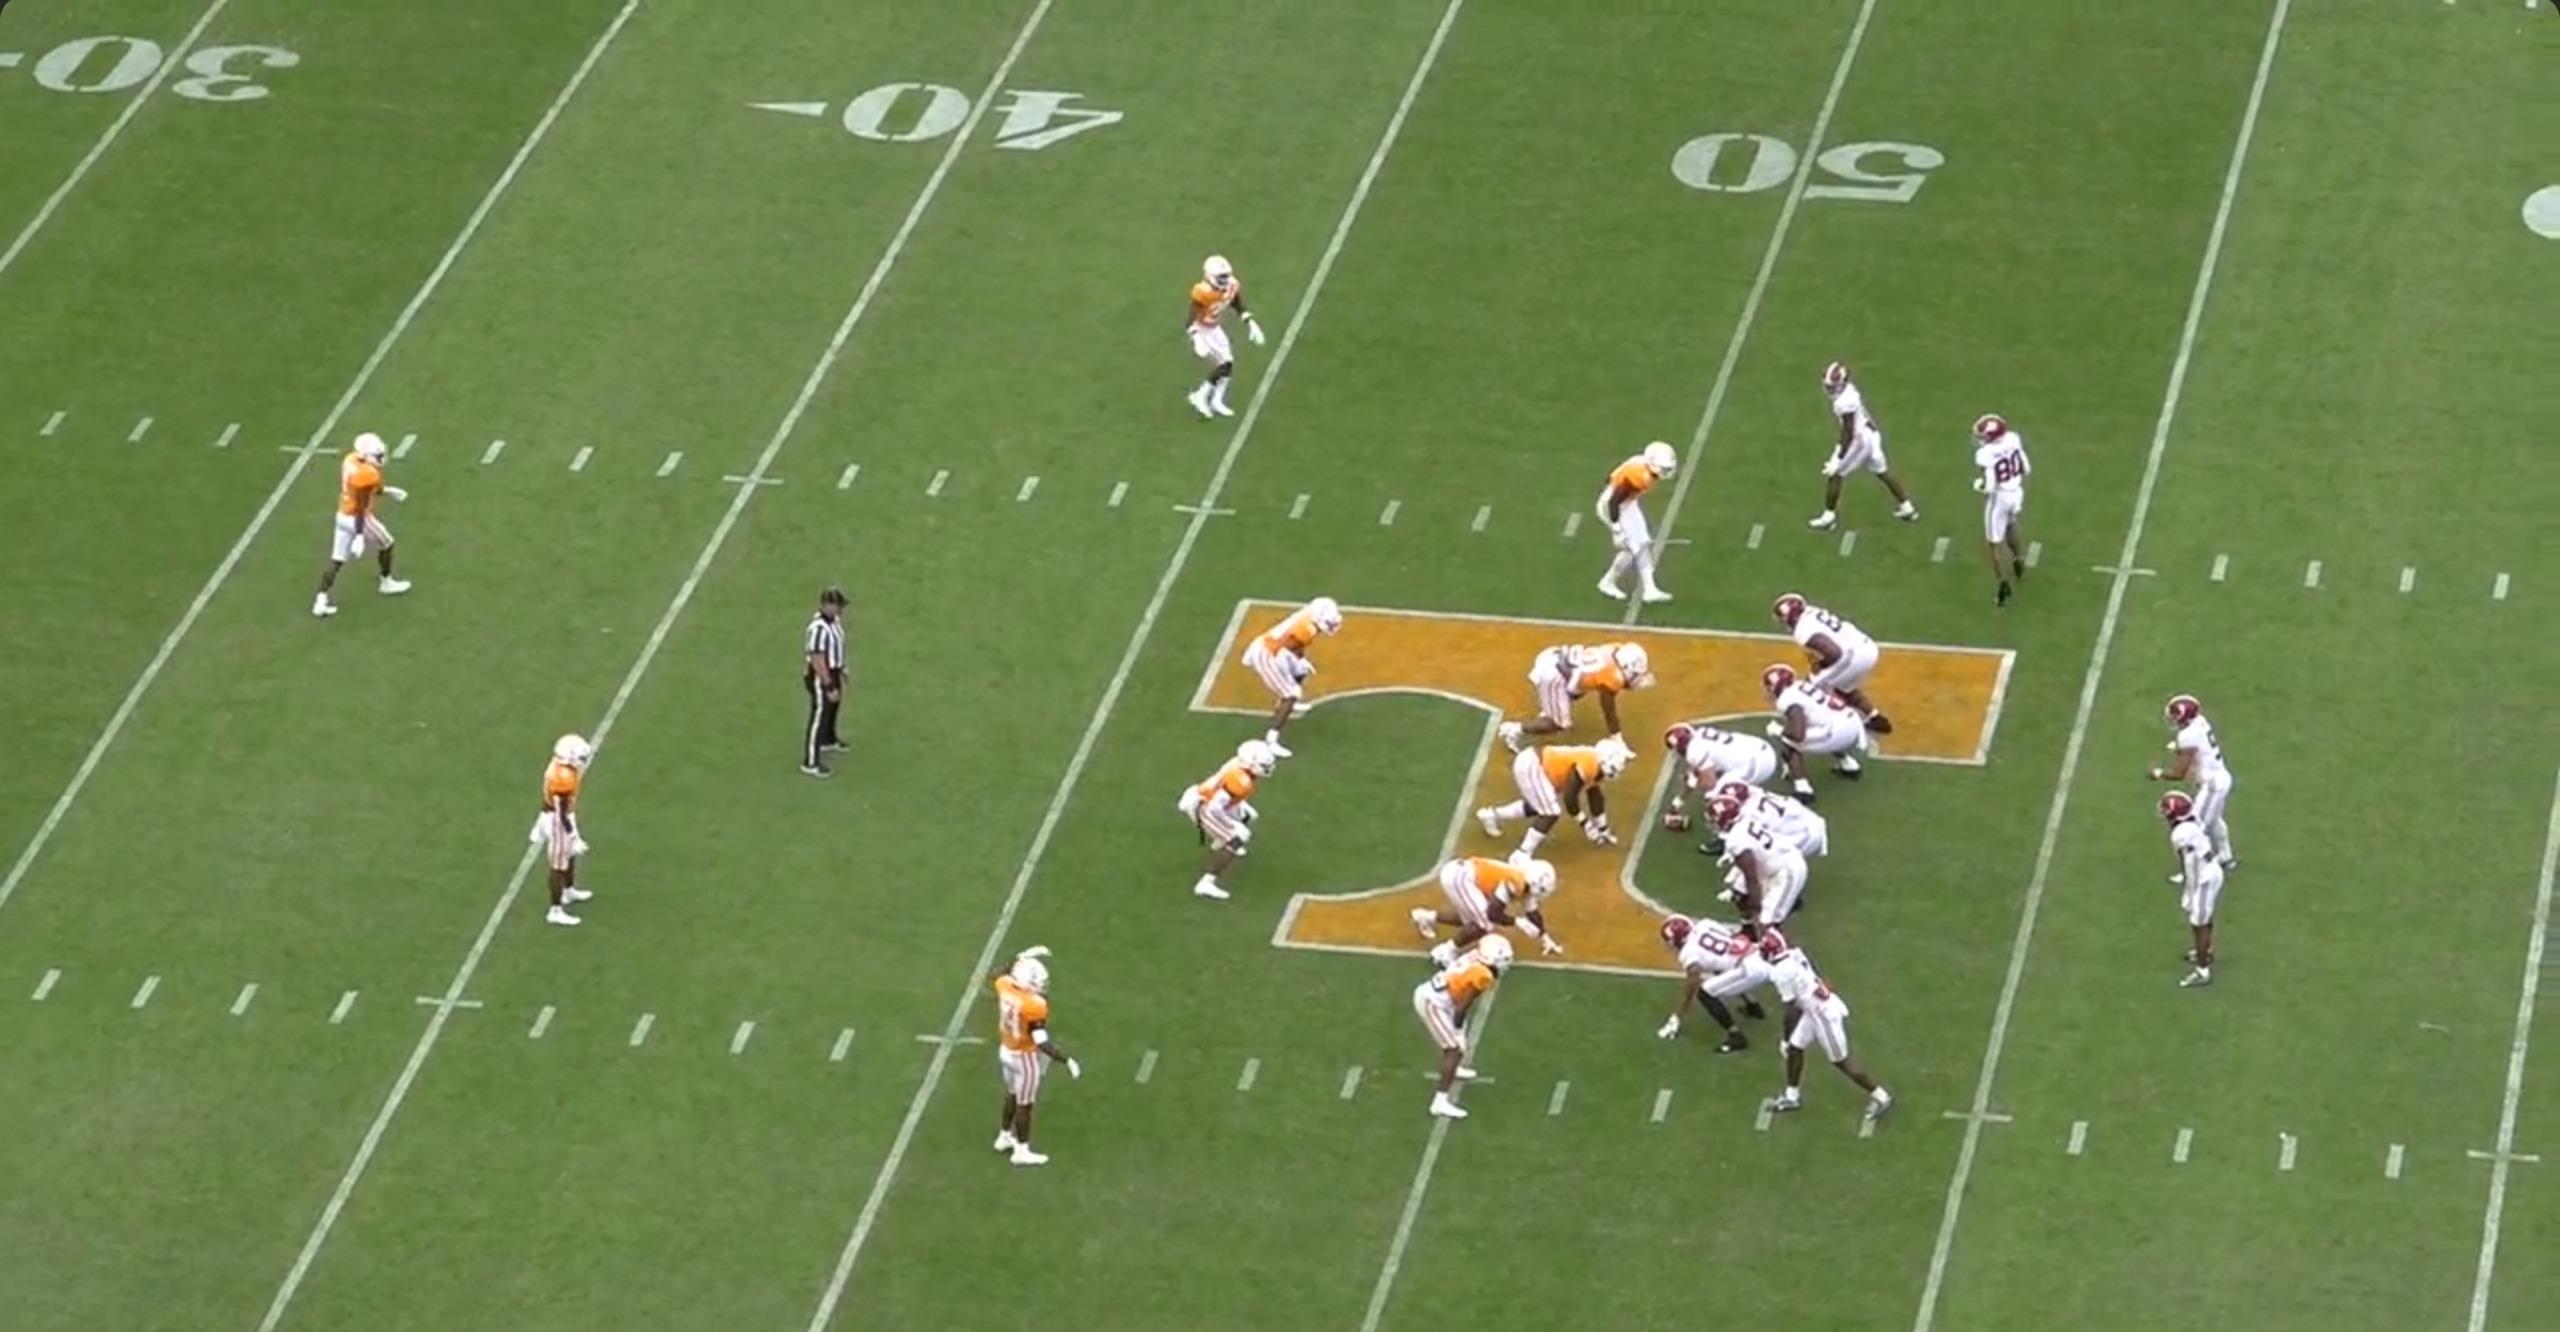player: (1749, 925, 1905, 1131), (1799, 358, 1926, 539), (1415, 922, 1525, 1120), (312, 427, 419, 628), (973, 952, 1067, 1179), (1643, 917, 1778, 1064), (1480, 741, 1645, 861), (1772, 593, 1897, 745), (2141, 686, 2233, 884), (1490, 639, 1652, 751), (1247, 591, 1350, 763), (2151, 795, 2235, 1002), (1190, 733, 1291, 905), (1415, 849, 1570, 959), (1696, 802, 1811, 947), (1595, 432, 1688, 607), (1753, 663, 1868, 801), (1170, 248, 1258, 428), (1962, 407, 2038, 612), (532, 724, 606, 934), (1648, 719, 1774, 837), (1706, 781, 1832, 880)
ref: (787, 587, 863, 793)
